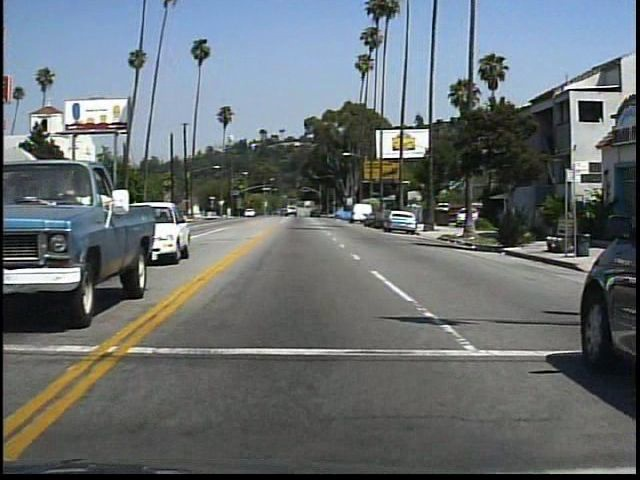person: (509, 198, 533, 250)
